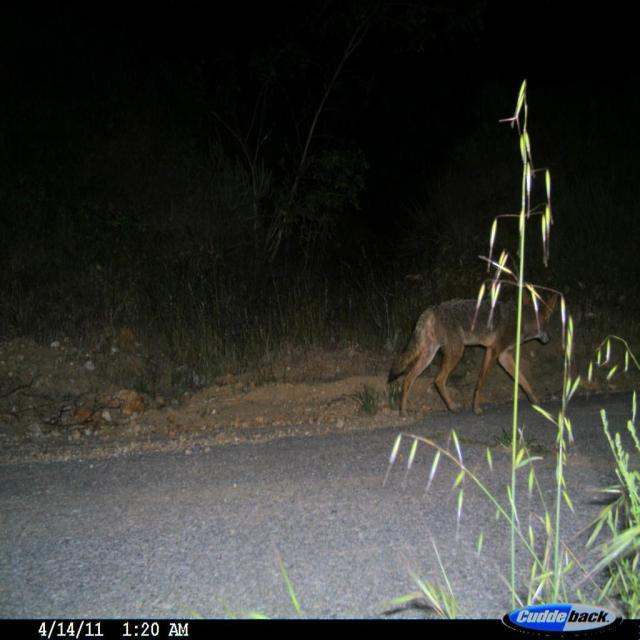coyote: (386, 277, 563, 426)
